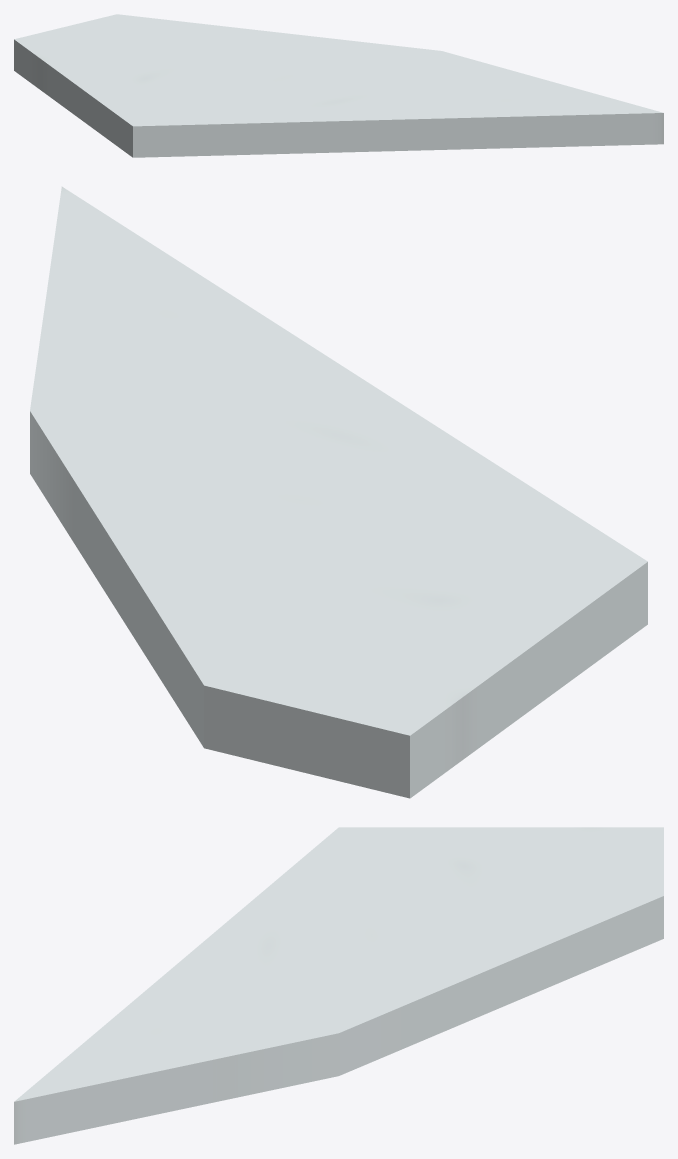
The model's file is ice3.glb.
The picture shows the model from 3 angles, top to bottom: view 1: azimuth 30°, elevation 25°; view 2: azimuth 150°, elevation 25°; view 3: azimuth 270°, elevation 25°; orthographic projection. The views are drawn at different scales.
Visible parts, largest first — view 1: ice_03; view 2: ice_03; view 3: ice_03.
Boxes of the visible parts, box(x1,y1,x2,y2) form: ice_03: box(14, 14, 663, 157); ice_03: box(30, 186, 647, 798); ice_03: box(14, 827, 663, 1144).
Size of the model in its own units: 4 by 0.2914 by 4.
Materials: 1 (1 with a texture image).
